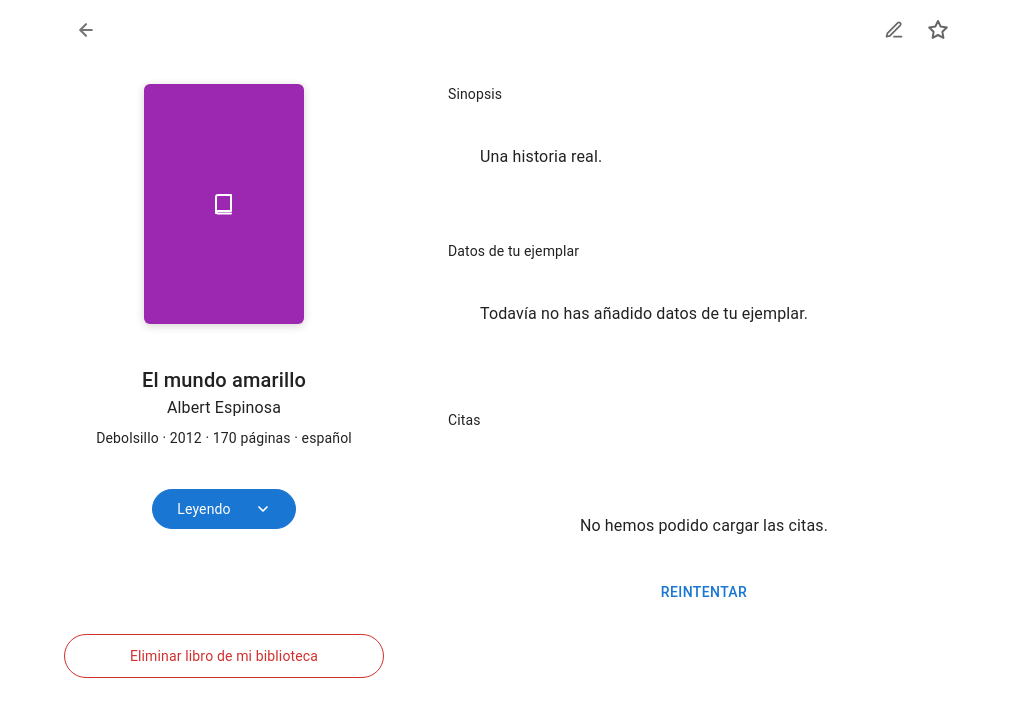
Given the book detail page › When the user empties the title › Then it asks for it and does not send
Click the button named "Editar datos" at (894, 30), box [872,8,916,52]
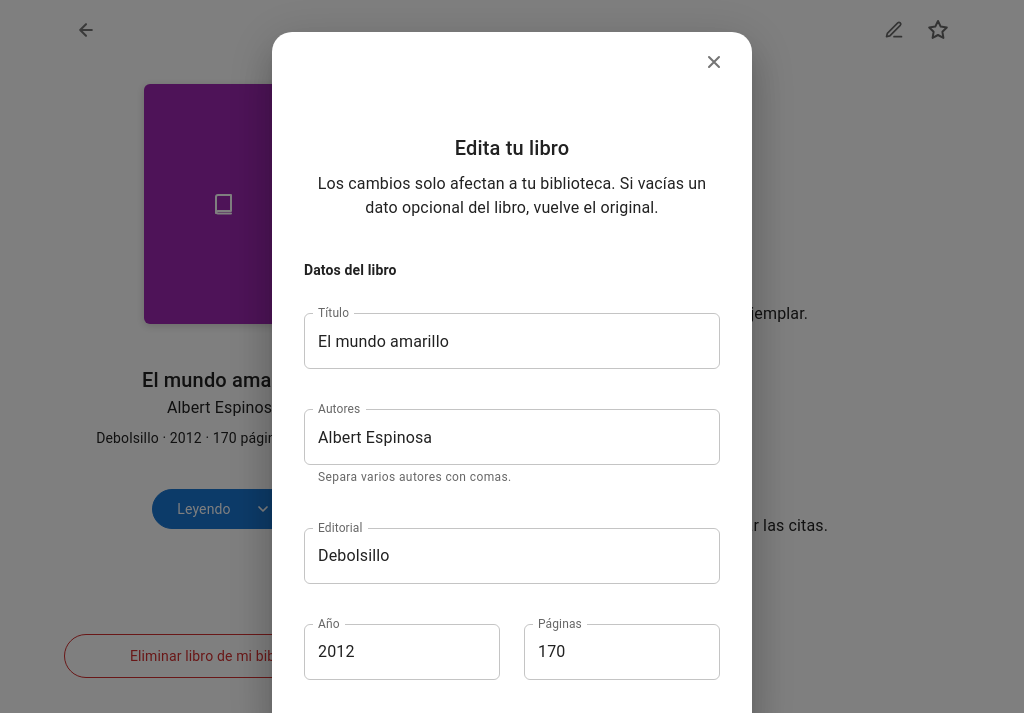
Clear the field labelled "Título" at (512, 341), box [304,313,720,369]
(page scrolled)
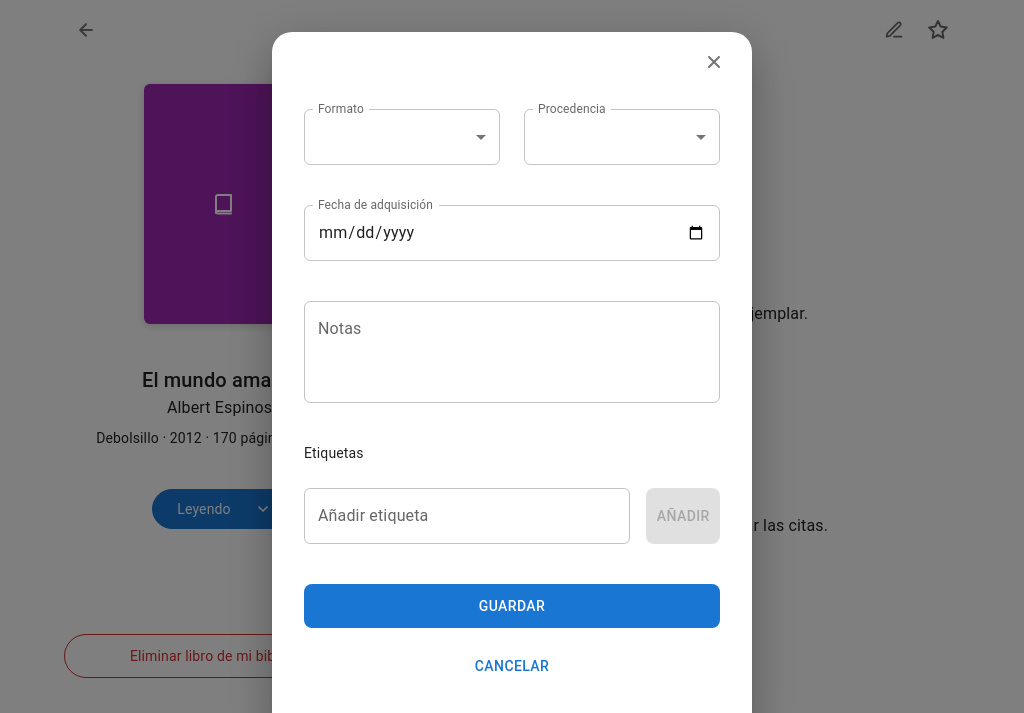
Click the button "Guardar" at (512, 606), box [304,584,720,628]
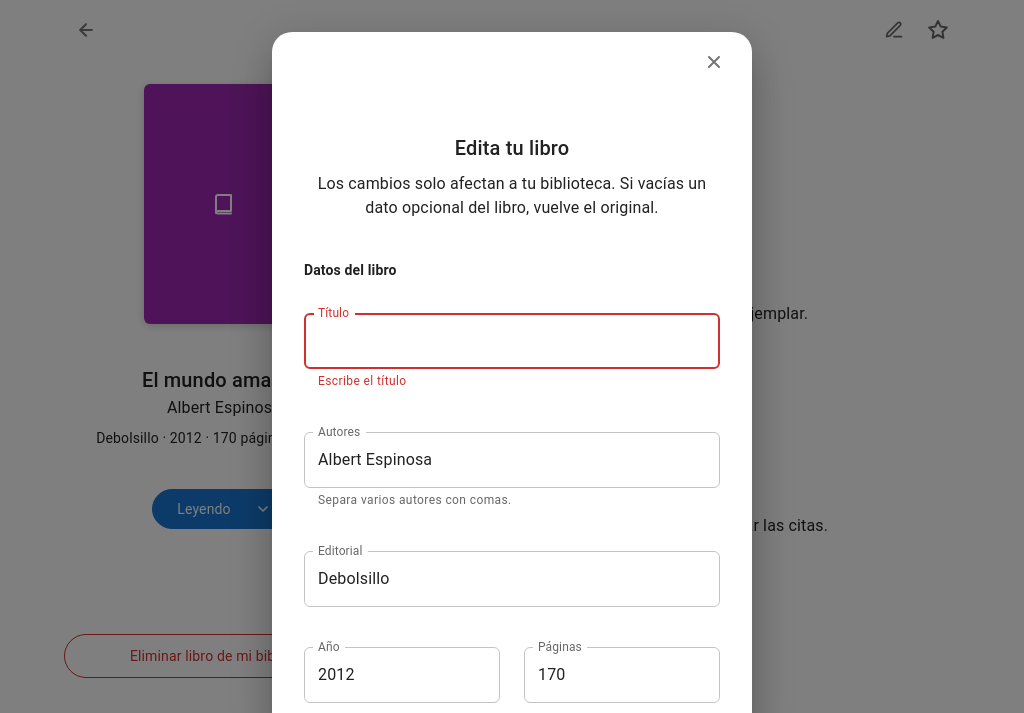
Expected: the text "Escribe el título" is shown, [318,374,407,388]
